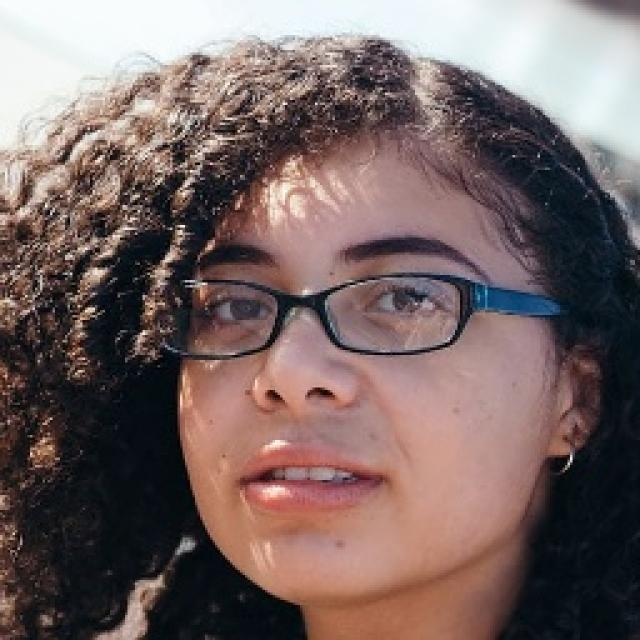glasses: (153, 262, 573, 362)
